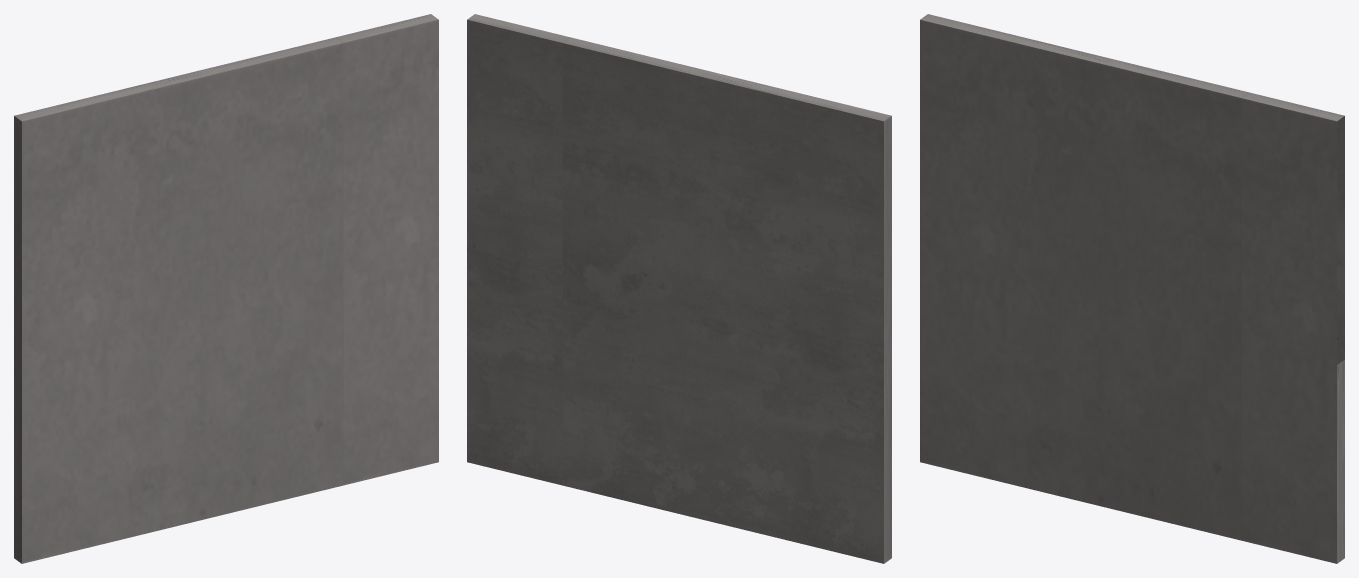
File: wall_01_c.fbx
The picture shows the model from 3 angles, left to right: view 1: azimuth 30°, elevation 25°; view 2: azimuth 150°, elevation 25°; view 3: azimuth 330°, elevation 25°; orthographic projection.
Parts seen in each view (by area): view 1: polySurface5; view 2: polySurface5; view 3: polySurface5.
Boxes of the visible parts, left/top/right/bottom form: polySurface5: left=14, top=14, right=438, bottom=563; polySurface5: left=467, top=14, right=891, bottom=563; polySurface5: left=920, top=14, right=1344, bottom=563.
Size of the model in its own units: 912 by 925 by 29.53.
Materials: 1 (1 with a texture image).
